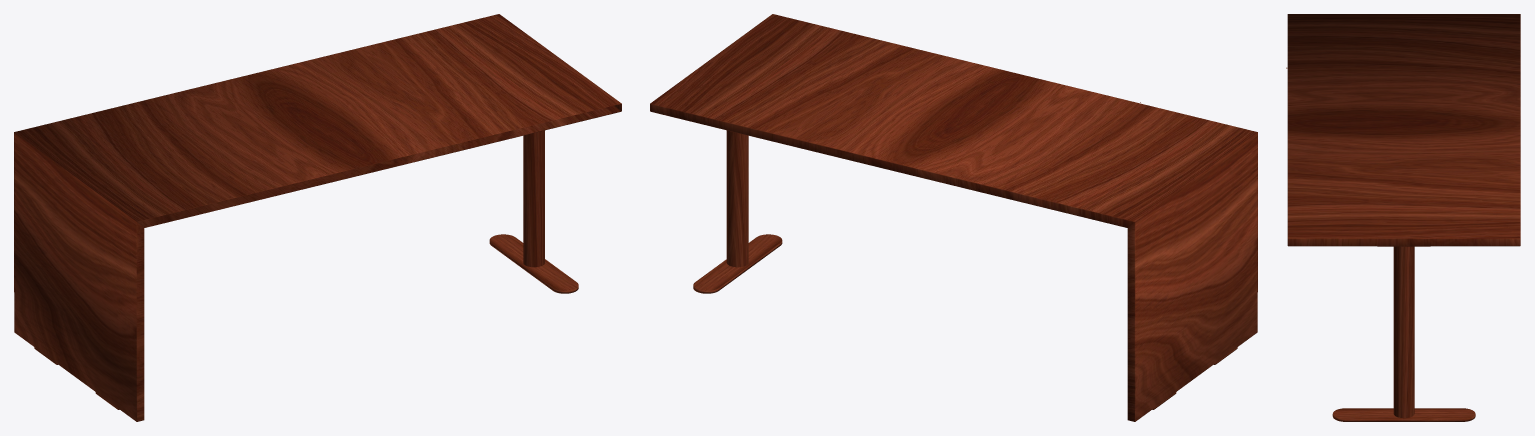
Rendered from bdesk.glb.
3 renders of one model, left to right at view 1: azimuth 30°, elevation 25°; view 2: azimuth 150°, elevation 25°; view 3: azimuth 270°, elevation 25°, orthographic. The views are drawn at different scales.
Parts seen in each view (by area): view 1: Desk; view 2: Desk; view 3: Desk.
Boxes of the visible parts, x1=… form: Desk: x1=14, y1=14, x2=621, y2=421; Desk: x1=650, y1=14, x2=1257, y2=421; Desk: x1=1286, y1=14, x2=1520, y2=421.
Bounding box in the file's own units: 1.83 × 0.7306 × 0.8044.
Materials: 1 (1 with a texture image).
